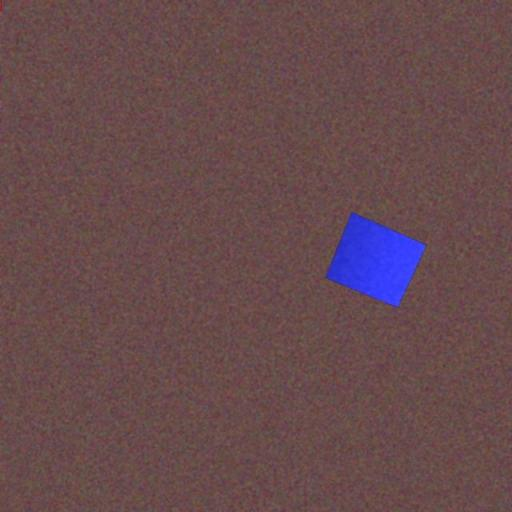BLUE_SQUARE: (325, 211, 427, 309)
